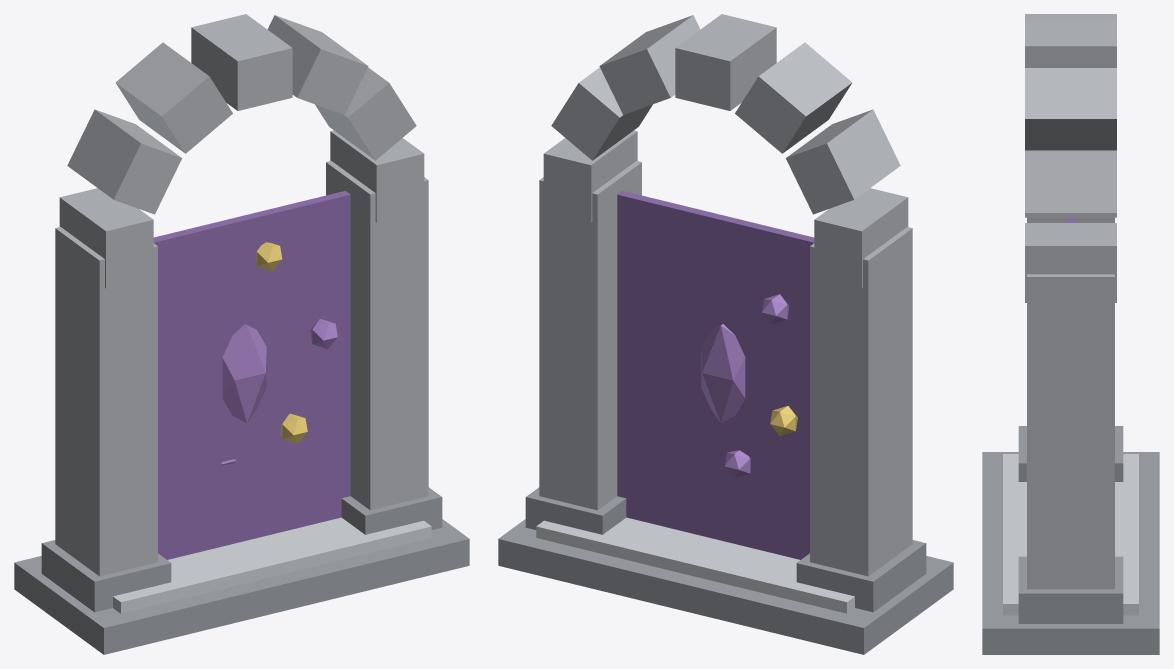
Rendered from animprop_portal_03.glb.
3 renders of one model, left to right at view 1: azimuth 30°, elevation 25°; view 2: azimuth 150°, elevation 25°; view 3: azimuth 270°, elevation 25°, orthographic.
Parts seen in each view (by area): view 1: animprop; view 2: animprop; view 3: animprop.
Part boxes in pixels (x1,y1,x2,y2): animprop: [14, 14, 469, 654]; animprop: [498, 14, 953, 654]; animprop: [982, 14, 1159, 654].
Bounding box in the file's own units: 2 × 2.82 × 0.85.
